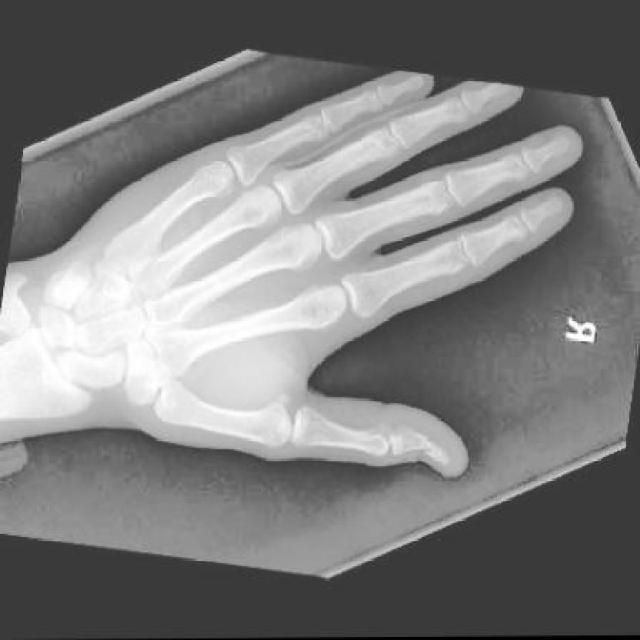Fracture: (415, 435, 437, 462)
